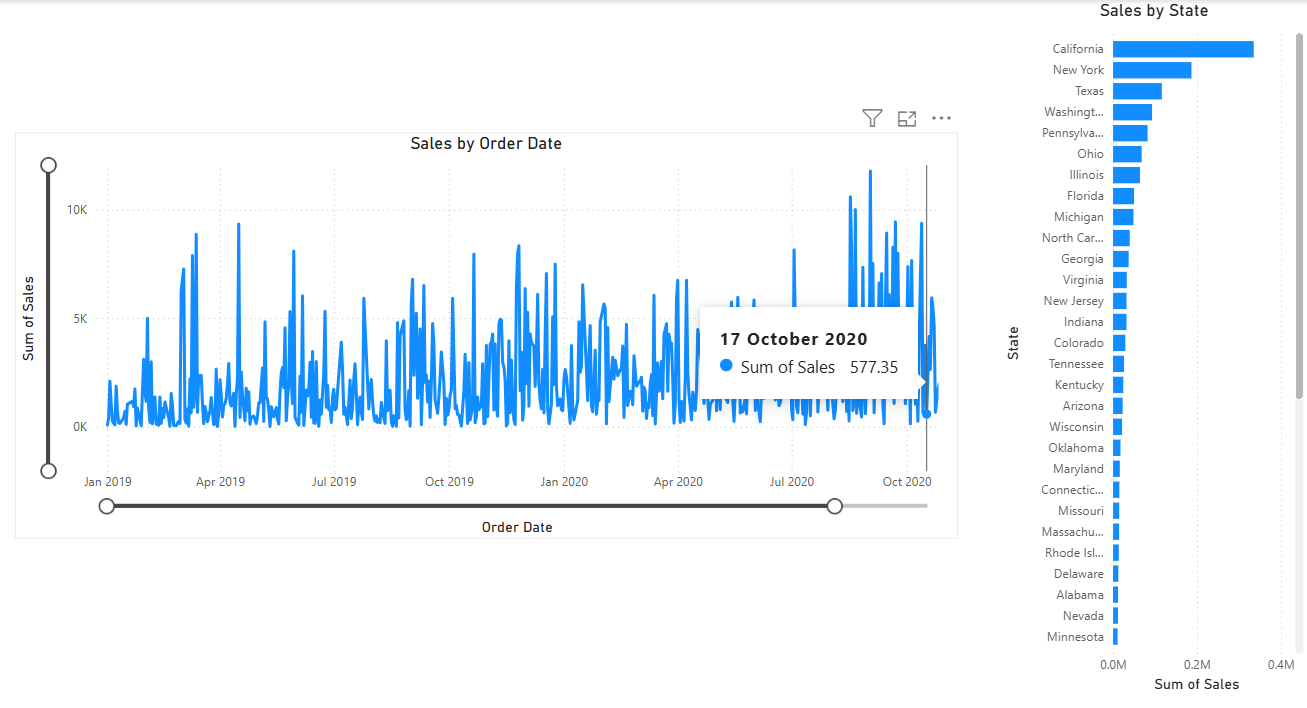

Layout of this report page (visuals, bound fields, positions):
{"tool":"powerbi","page":{"name":"Page 2","canvas":[1280,720],"ordinal":1},"visuals":[{"type":"lineChart","title":" Sales by Order Date","fields":{"Y":["Sum(SuperStore_Sales_Dataset.Sales)"],"Category":["SuperStore_Sales_Dataset.Order Date"]},"box":[14.7,129.6,922,397.4],"z":0},{"type":"clusteredBarChart","title":" Sales by State","fields":{"Category":["SuperStore_Sales_Dataset.State"],"Y":["Sum(SuperStore_Sales_Dataset.Sales)"]},"box":[978.3,0,302,682.3],"z":1000}]}

Visuals, with their boxes on the page's 1280x720 design canvas (x1, y1, x2, y2). These are canvas units, not pixel positions in the 1307x708 screenshot, which may show the page scaled, cropped or inside an application window:
" Sales by Order Date" lineChart: l=15, t=130, r=937, b=527
" Sales by State" clusteredBarChart: l=978, t=0, r=1280, b=682
